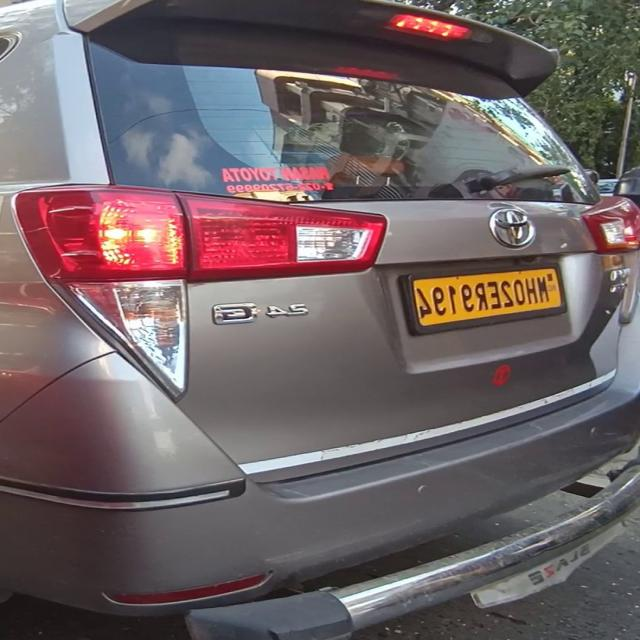license_plate: (395, 257, 571, 337)
